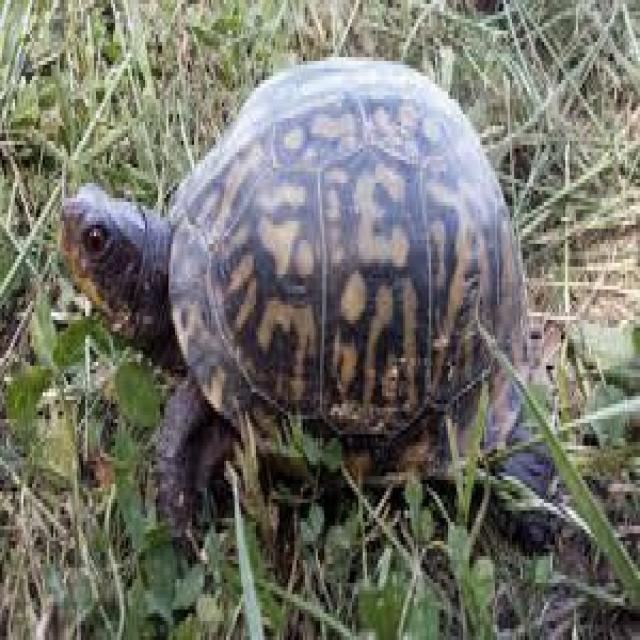turtle: (62, 57, 535, 526)
